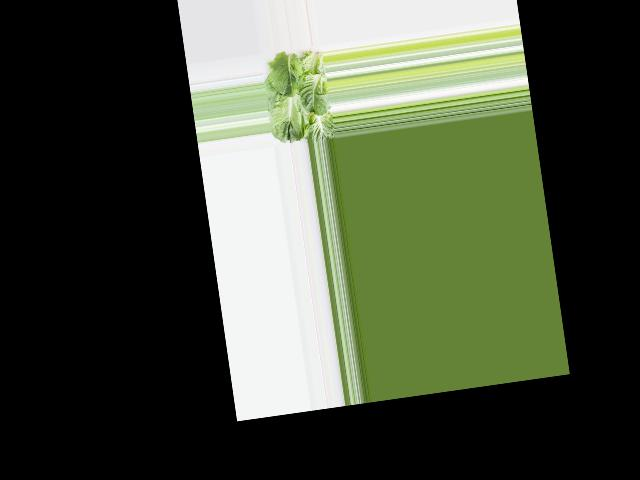lettuce: (262, 48, 336, 145)
